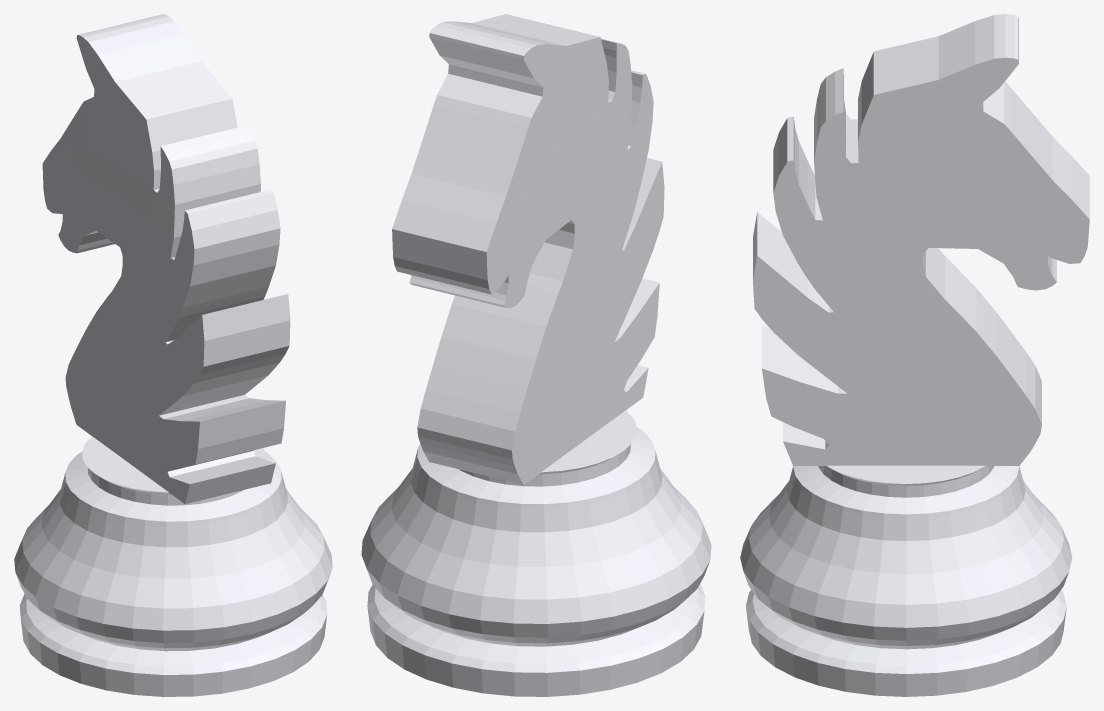
File: knight.glb
3 views of the same model, side by side, from view 1: azimuth 30°, elevation 25°; view 2: azimuth 150°, elevation 25°; view 3: azimuth 270°, elevation 25° (orthographic). The views are drawn at different scales.
Visible parts, largest first — view 1: knight; view 2: knight; view 3: knight.
Part boxes in pixels (x1=…): knight: x1=14, y1=14, x2=332, y2=696; knight: x1=361, y1=14, x2=711, y2=696; knight: x1=740, y1=14, x2=1089, y2=696.
Size of the model in its own units: 1.22 by 2.42 by 1.29.
Materials: 1 (1 with a texture image).
